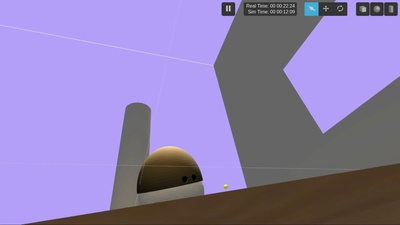mira_robot: (137, 145, 204, 205)
